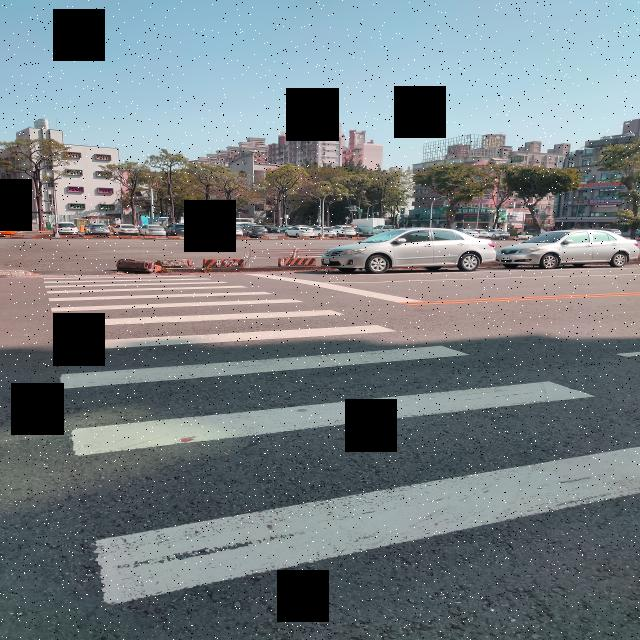zebra_crossing: (37, 275, 640, 607)
